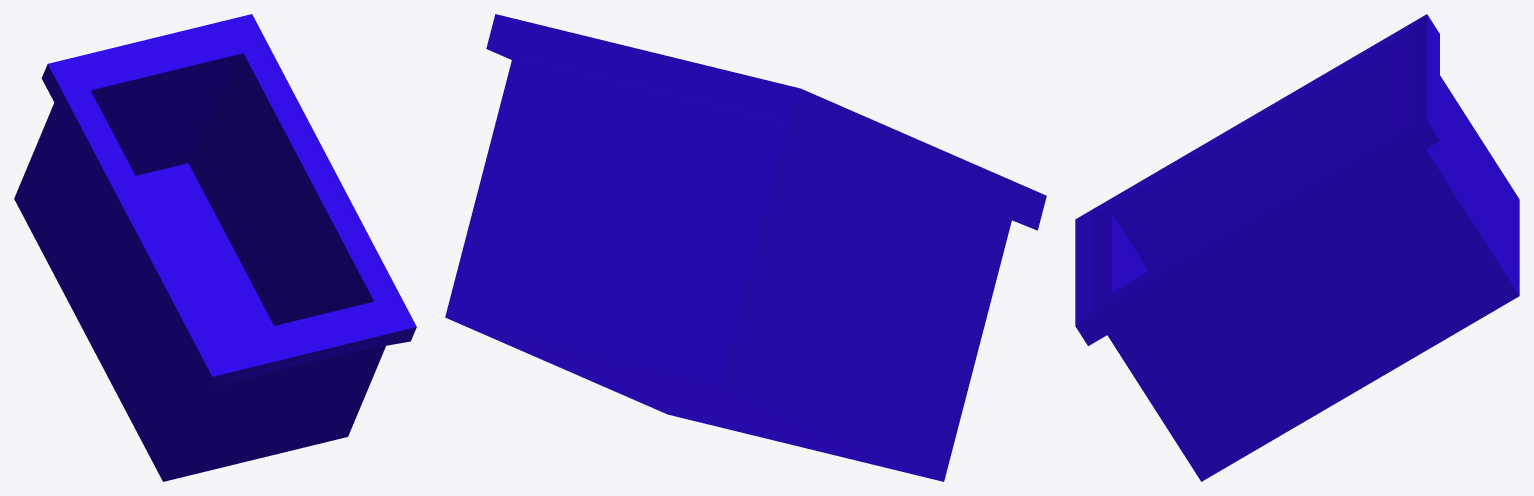
File: SortingBins_FBX.fbx
The picture shows the model from 3 angles, left to right: view 1: azimuth 30°, elevation 25°; view 2: azimuth 150°, elevation 25°; view 3: azimuth 270°, elevation 25°; orthographic projection. The views are drawn at different scales.
Parts seen in each view (by area): view 1: pCube2; view 2: pCube2; view 3: pCube2.
Part boxes in pixels (bbox=[...]): pCube2: bbox=[14, 14, 416, 481]; pCube2: bbox=[445, 14, 1046, 481]; pCube2: bbox=[1075, 14, 1519, 481].
Size of the model in its own units: 16.41 by 26.32 by 28.93.
